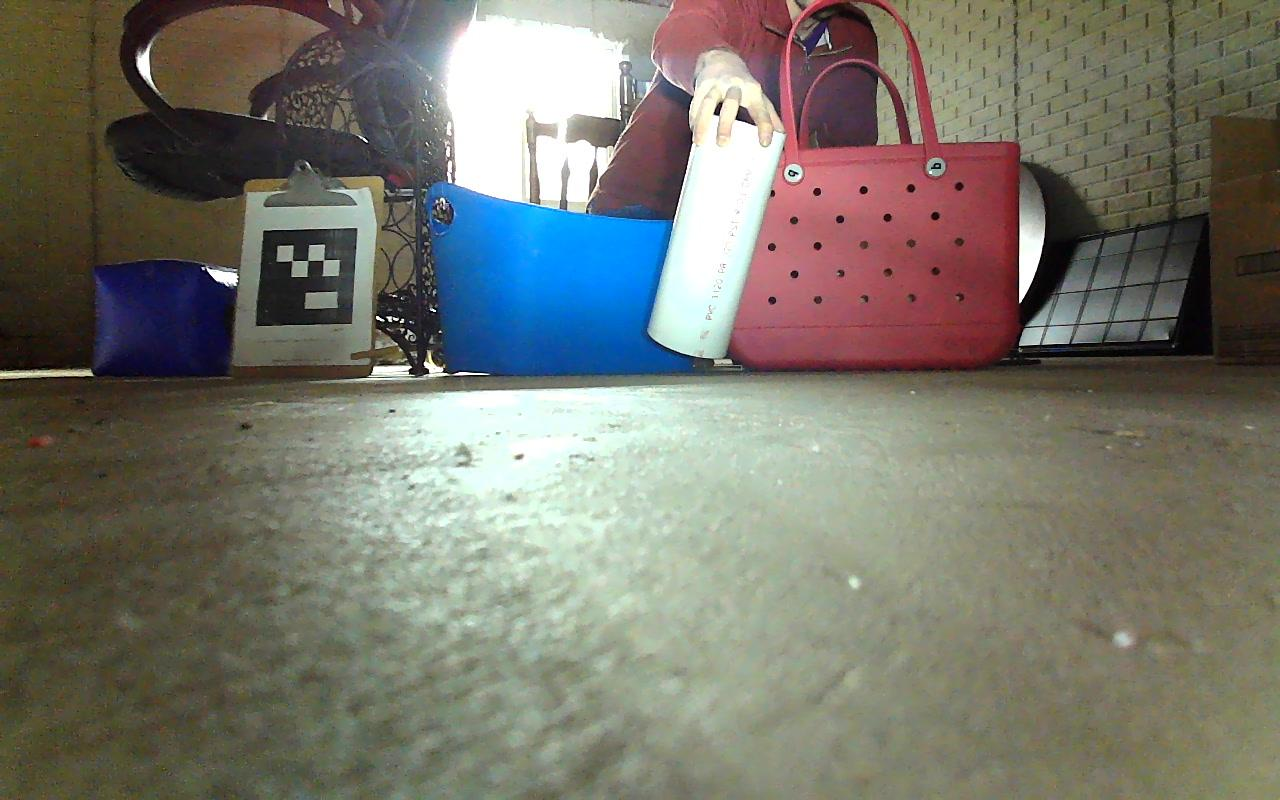coral: (646, 101, 788, 368)
